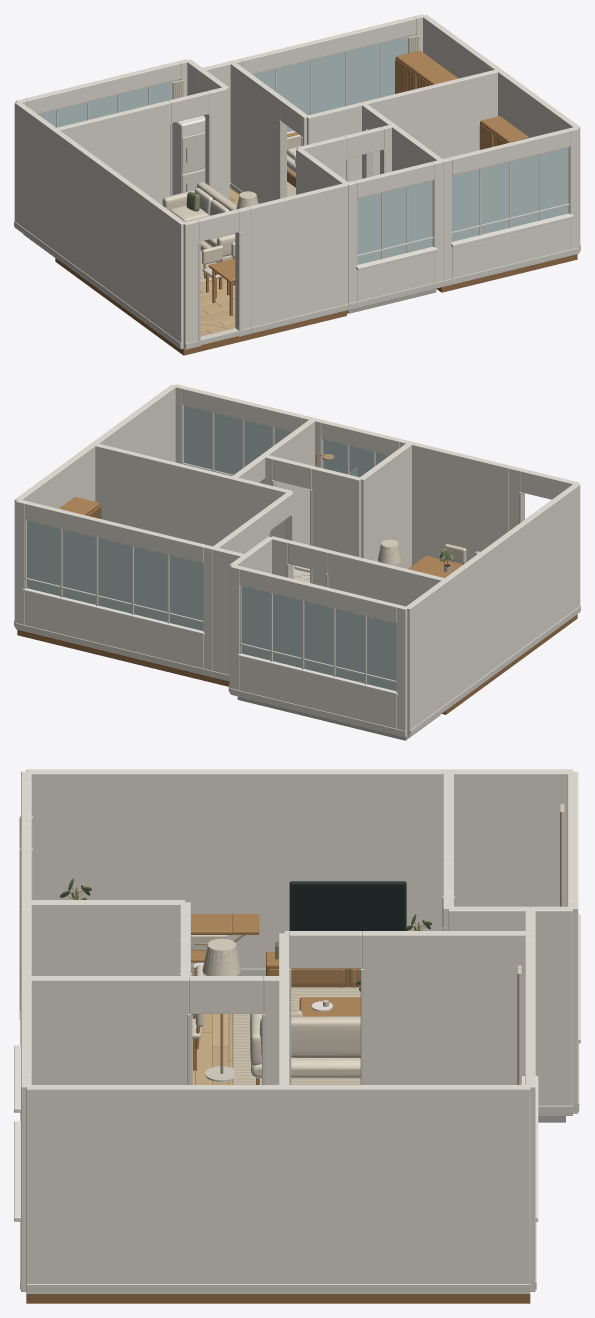
Rendered from new-home-a.glb.
3 renders of one model, top to bottom at view 1: azimuth 30°, elevation 25°; view 2: azimuth 150°, elevation 25°; view 3: azimuth 270°, elevation 25°, orthographic. The views are drawn at different scales.
Parts seen in each view (by area): view 1: Plaster wall (×28), Pale glazing (×4), Skirting board (×5), Floor underlay (×2), Carcass (×2), Stone window sill (×2), Refrigerator, Door jamb (×2), Refrigerator door, Oak door panel; view 2: Plaster wall (×29), Pale glazing (×4), Skirting board (×3), Floor underlay (×2), Stone window sill (×2), Solid oak tabletop, Pleated shade, Window rail; view 3: Plaster wall (×20), Television screen, Floor underlay (×2), Skirting board, Soft back, Bound wool rug, Sofa upholstered base, Pleated shade, Coffee tabletop, Cart top, Oak door panel, Television frame (+1 smaller).
Boxes of the visible parts, x1,y1,x2,y2 form: Plaster wall (×28): (14,14,580,349); Pale glazing (×4): (38,35,568,264); Skirting board (×5): (14,221,579,348); Floor underlay (×2): (135,254,577,355); Carcass (×2): (396,50,528,142); Stone window sill (×2): (356,213,573,270); Refrigerator: (172,115,205,195); Door jamb (×2): (235,120,286,336); Refrigerator door: (182,132,205,172); Oak door panel: (395,59,415,93); Plaster wall (×29): (14,384,580,737); Pale glazing (×4): (27,406,396,690); Skirting board (×3): (15,606,580,735); Floor underlay (×2): (17,629,440,740); Stone window sill (×2): (22,588,397,695); Solid oak tabletop: (408,555,462,577); Pleated shade: (378,539,401,564); Window rail: (26,578,203,622); Plaster wall (×20): (21,769,578,1294); Television screen: (291,884,404,930); Floor underlay (×2): (26,1294,530,1303); Skirting board: (26,1284,530,1292); Soft back: (259,1016,360,1057); Bound wool rug: (232,987,360,1084); Sofa upholstered base: (251,1057,360,1078); Pleated shade: (202,938,241,975); Coffee tabletop: (299,997,360,1016); Cart top: (191,914,232,934); Oak door panel: (269,969,344,983); Television frame: (289,881,406,930).
Bounding box in the file's own units: 8.54 × 2.69 × 6.38.
